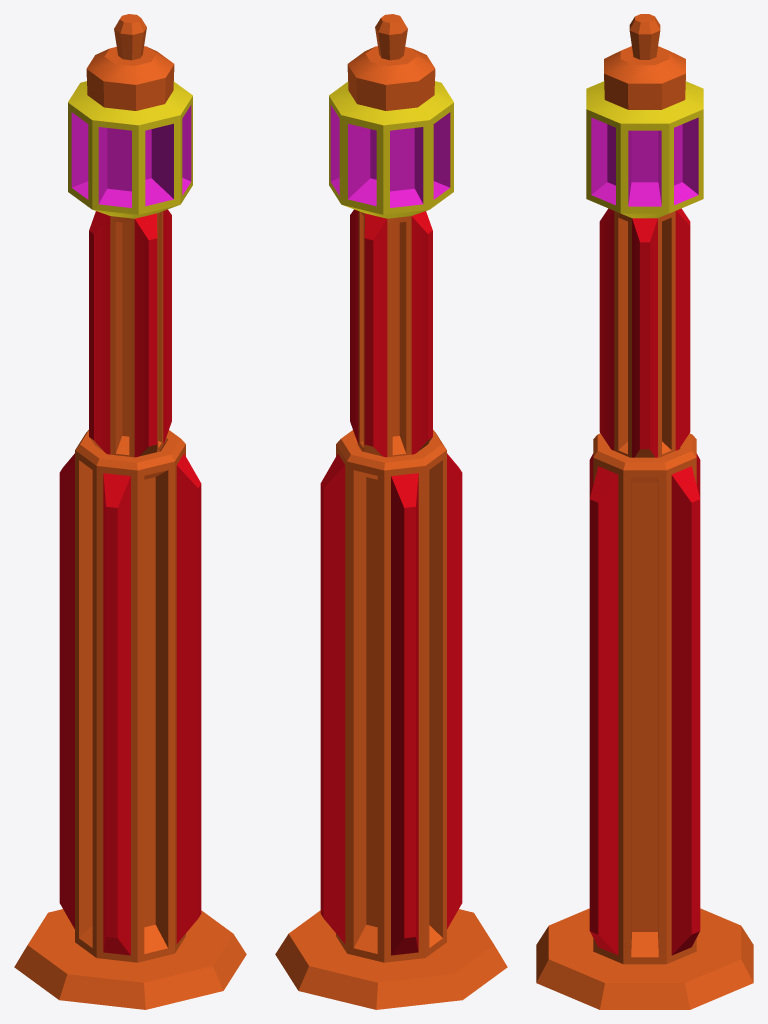
File: LampUVID.fbx
3 views of the same model, side by side, from view 1: azimuth 30°, elevation 25°; view 2: azimuth 150°, elevation 25°; view 3: azimuth 270°, elevation 25° (orthographic).
Visible parts, largest first — view 1: Cube; view 2: Cube; view 3: Cube.
Part boxes in pixels (<box>): Cube: <box>14,14,246,1009</box>; Cube: <box>275,14,507,1009</box>; Cube: <box>536,14,753,1009</box>.
Size of the model in its own units: 400 by 1920 by 400.
